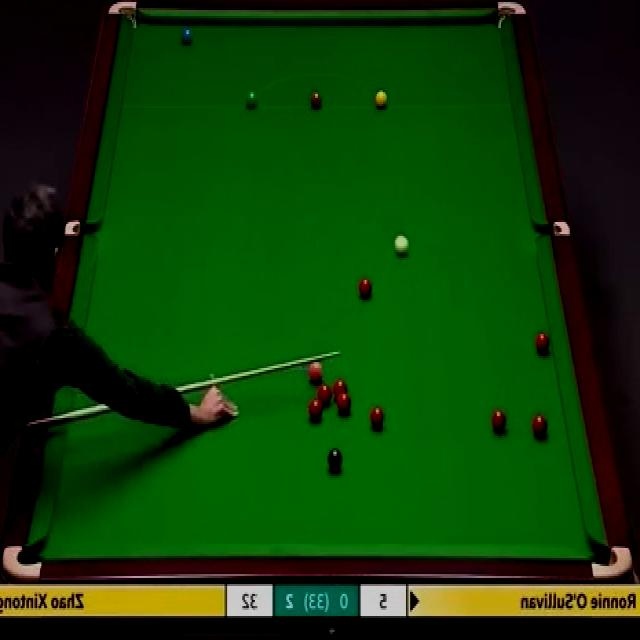black-ball: (328, 449, 342, 472)
blue-ball: (178, 27, 192, 44)
brown-ball: (309, 90, 322, 110)
green-ball: (245, 90, 259, 111)
pink-ball: (308, 359, 324, 384)
red-ball: (532, 412, 548, 440), (369, 405, 385, 432), (534, 330, 550, 354), (308, 396, 323, 421), (491, 408, 506, 433), (314, 380, 330, 402), (358, 278, 373, 300), (333, 378, 347, 401), (337, 393, 351, 414)
white-ball: (393, 233, 410, 256)
yellow-ball: (374, 89, 389, 110)
